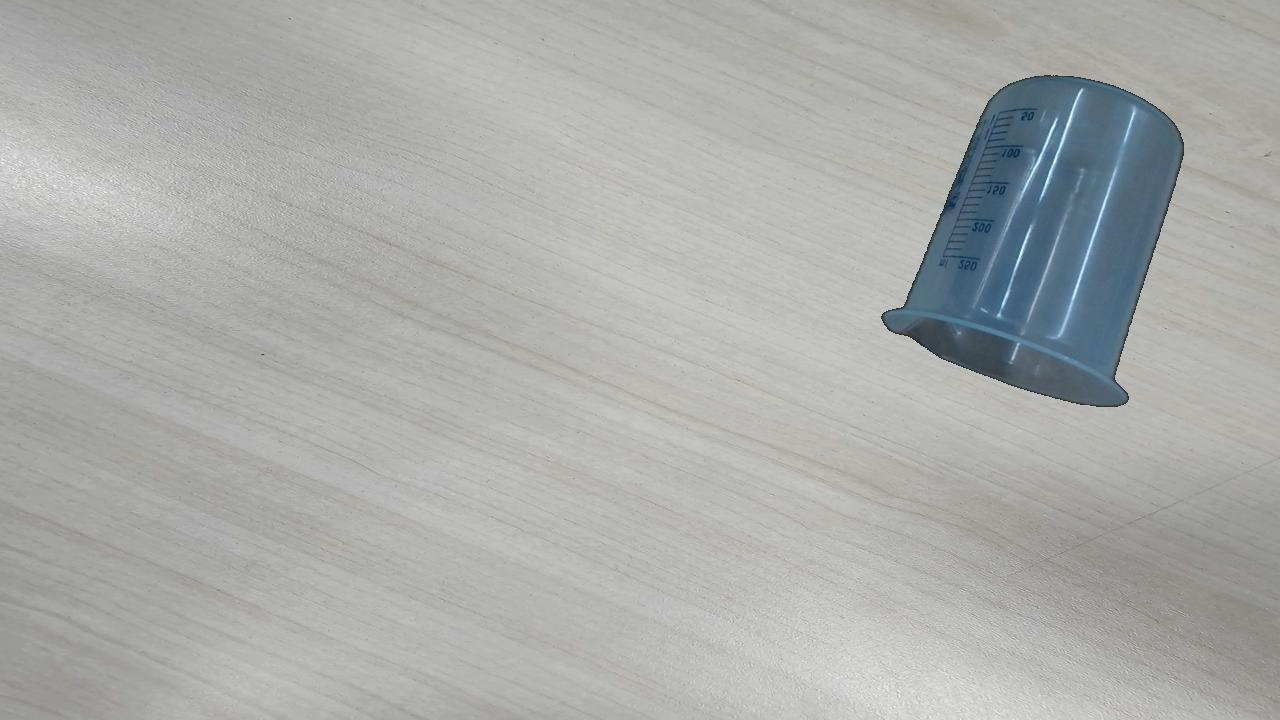becker: (881, 73, 1185, 409)
